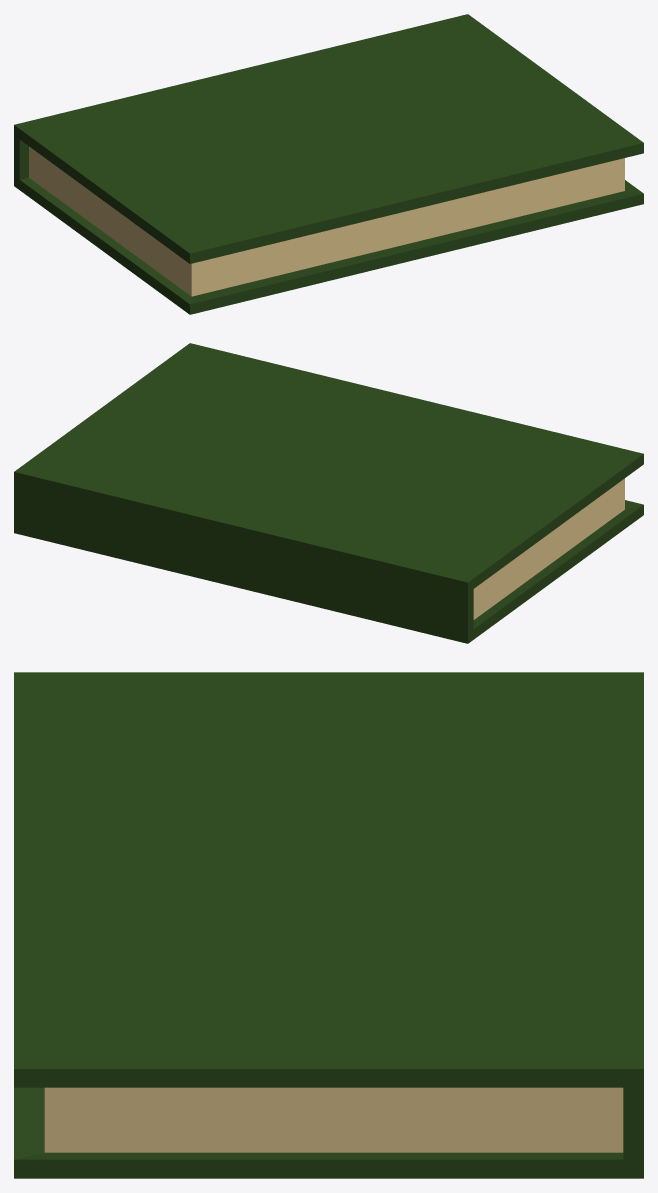
The model's file is Book1_041.fbx.
The picture shows the model from 3 angles, top to bottom: view 1: azimuth 30°, elevation 25°; view 2: azimuth 150°, elevation 25°; view 3: azimuth 270°, elevation 25°; orthographic projection. The views are drawn at different scales.
Visible parts, largest first — view 1: Book1.041; view 2: Book1.041; view 3: Book1.041.
Part boxes in pixels (x1,y1,x2,y2): Book1.041: (14,14,643,314); Book1.041: (14,343,643,643); Book1.041: (14,672,643,1178).
Size of the model in its own units: 58.86 by 7.59 by 39.52.
